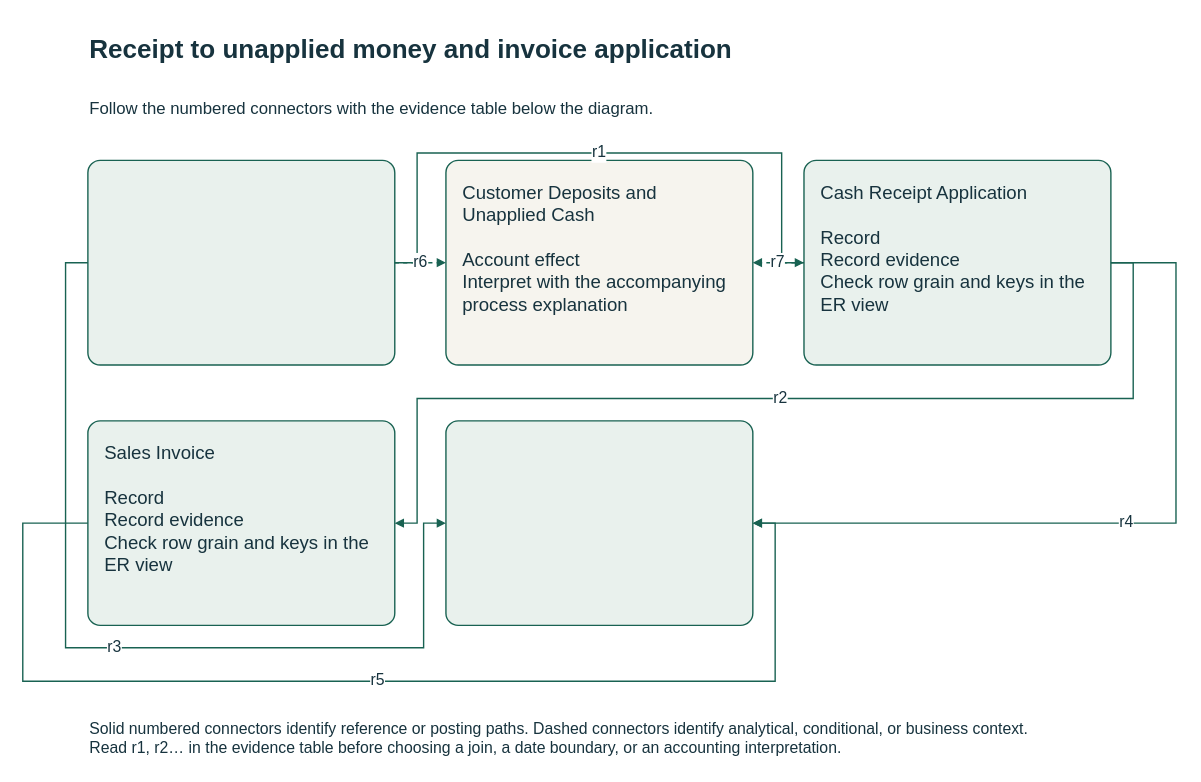
This 1201x782 diagram has some shape labels left out. Each missing label, with the box of its shape:
Cash Receipt Record Record evidence Check row grain and keys in the ER view: (87, 159, 395, 365)
GLEntry Record Record evidence Check row grain and keys in the ER view: (445, 420, 753, 626)
